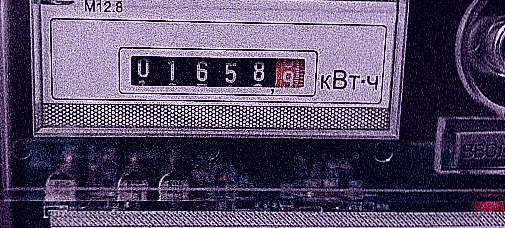0: (136, 56, 149, 78)
1: (166, 59, 176, 81)
5: (223, 60, 237, 83)
6: (194, 59, 208, 81)
8: (251, 59, 265, 81)
9: (279, 68, 293, 89)
screen: (112, 41, 324, 101)
